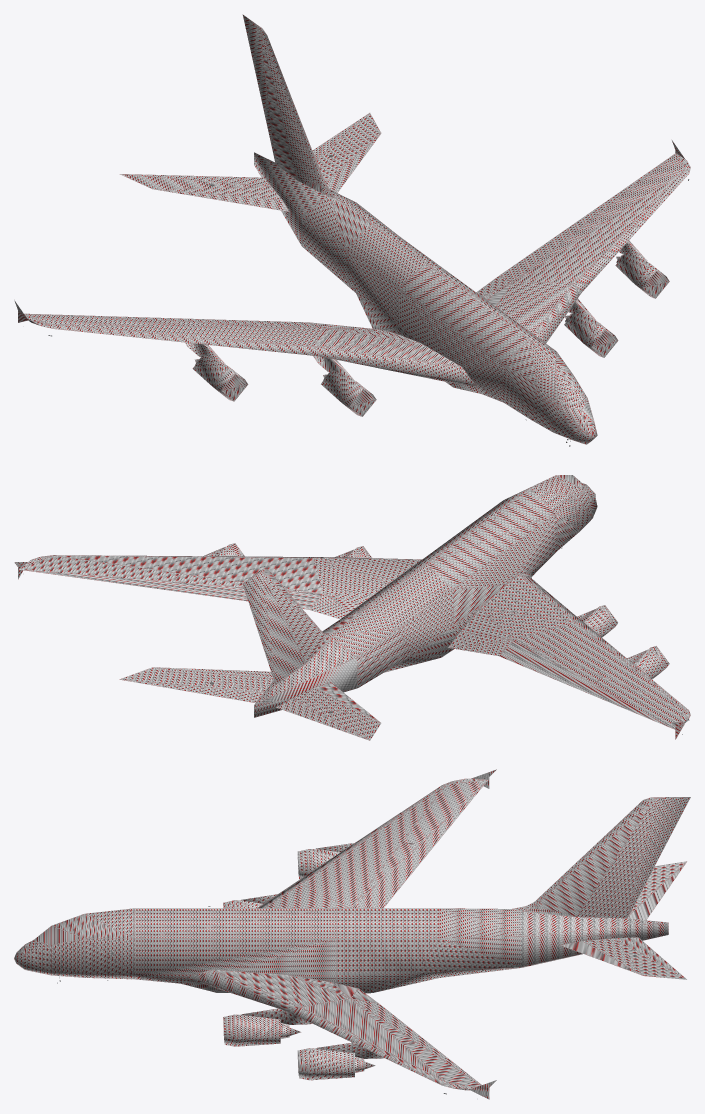
The model's file is TFS_Airbus_A380_RR_LOD1.gltf.
3 renders of one model, top to bottom at view 1: azimuth 30°, elevation 25°; view 2: azimuth 150°, elevation 25°; view 3: azimuth 270°, elevation 25°, orthographic. The views are drawn at different scales.
Parts seen in each view (by area): view 1: fuselage; view 2: fuselage; view 3: fuselage.
Part boxes in pixels (<box>): fuselage: <box>14,14,690,444</box>; fuselage: <box>14,475,690,740</box>; fuselage: <box>14,769,690,1099</box>.
Bounding box in the file's own units: 79.69 × 22.99 × 73.22.
